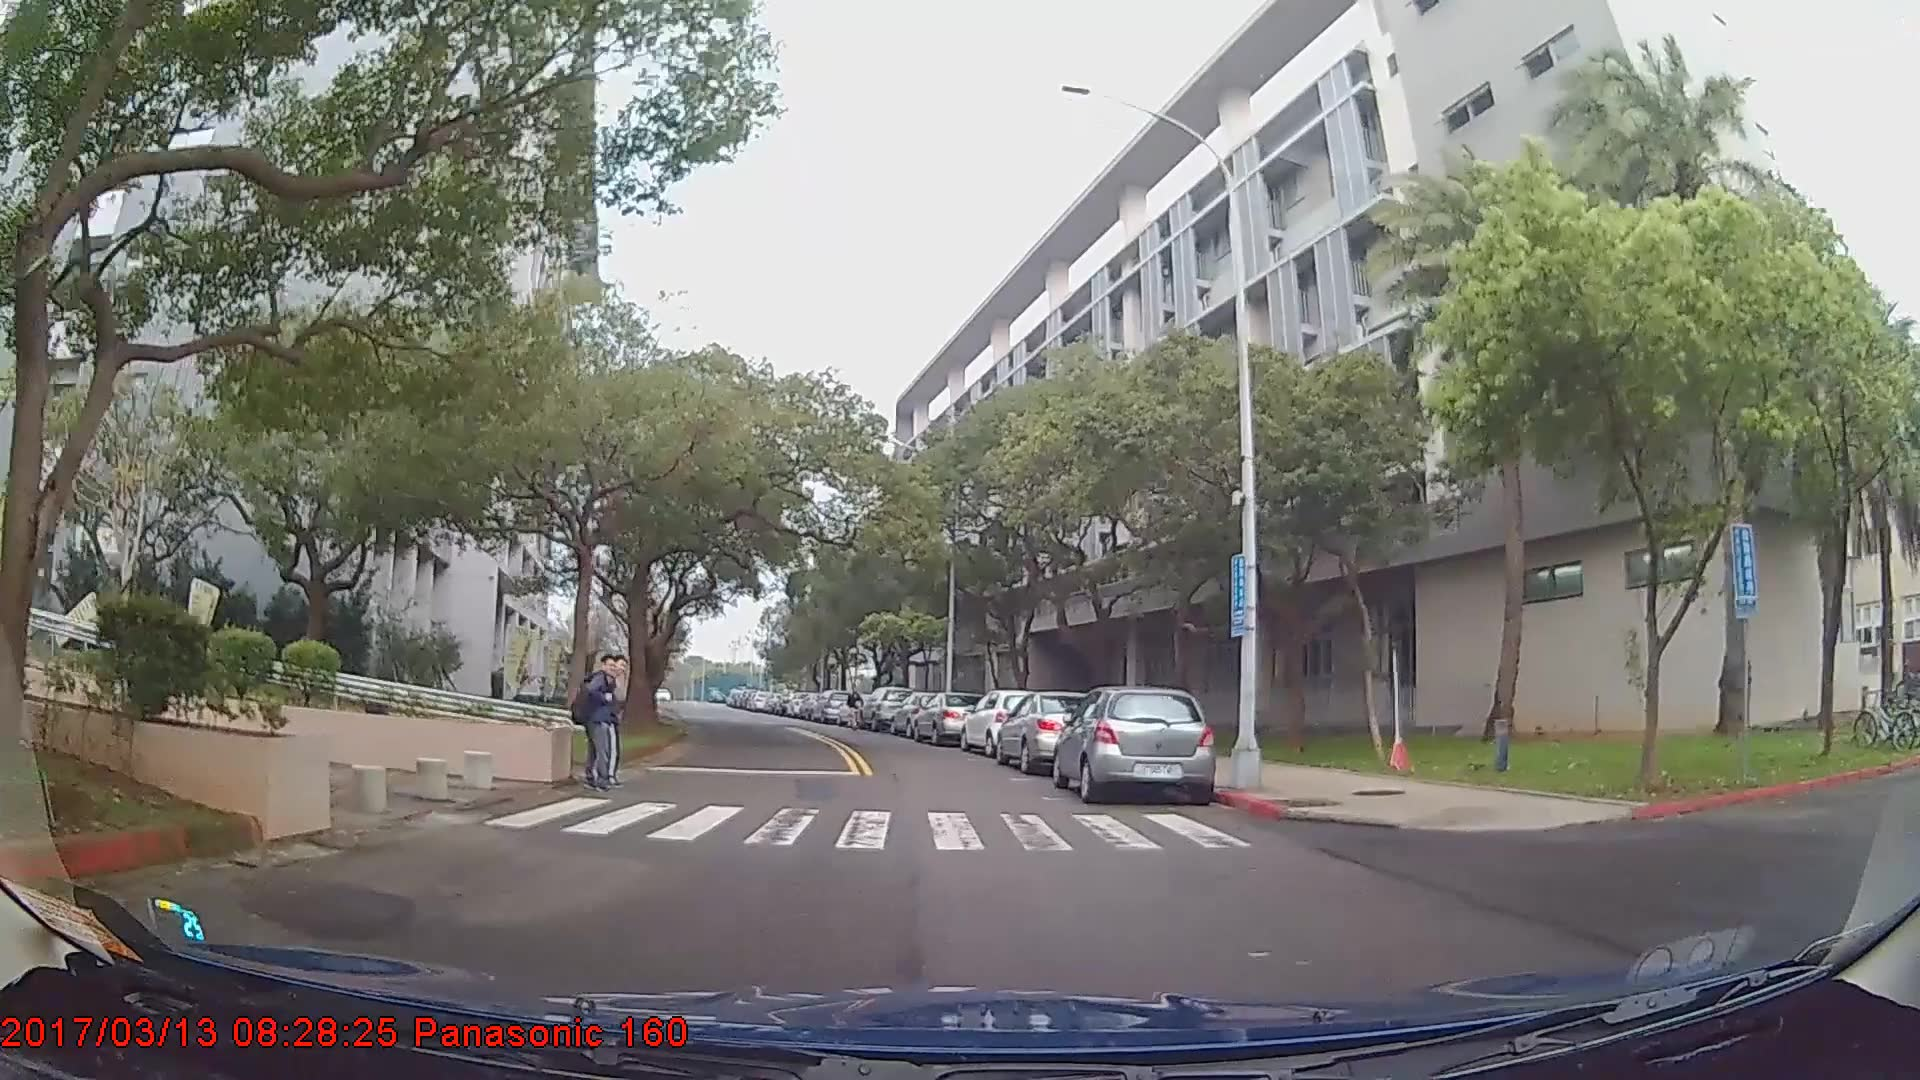pedestrian: (572, 654, 626, 794), (845, 683, 866, 733)
vehicle: (1053, 682, 1215, 801), (992, 689, 1101, 774), (959, 686, 1051, 756), (910, 688, 988, 745), (857, 683, 914, 729), (814, 688, 850, 723)
